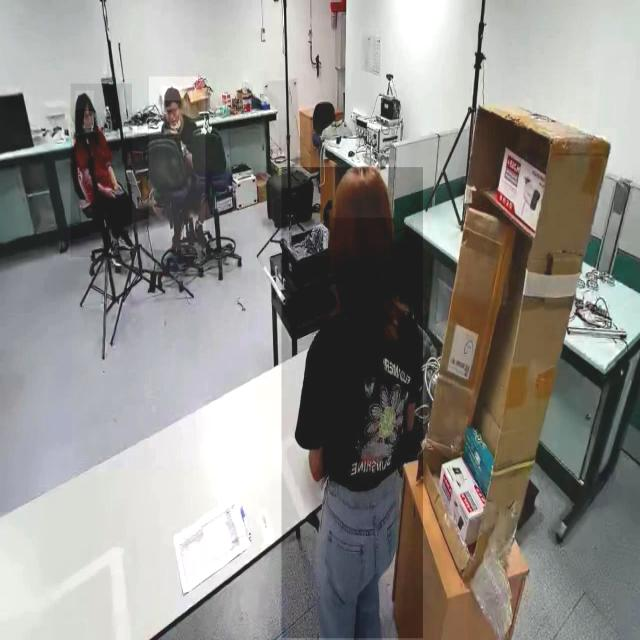face_nomask: (84, 111, 94, 129)
hand_noglove: (114, 180, 124, 196), (105, 186, 118, 198)
head_nohelmet: (332, 160, 395, 219), (75, 91, 94, 110), (163, 86, 181, 102)
person: (281, 167, 423, 639), (70, 84, 132, 258), (148, 77, 206, 250)
